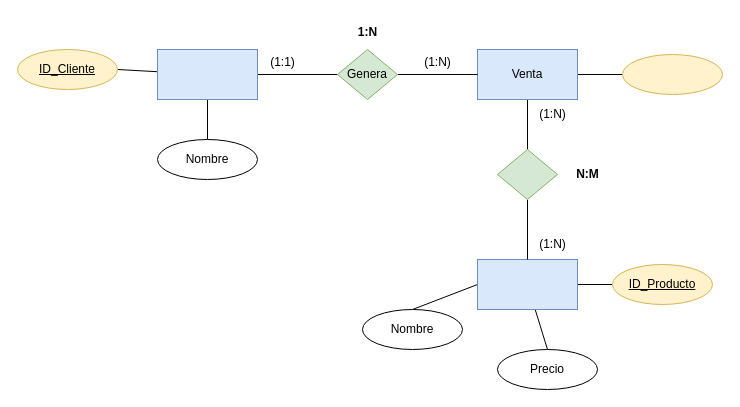
The diagram is 740 pixels wide and 407 high, and some of its shapes have lost their labels. The shapes that lost their labels are listed below. From the top down, each one's box as (x1, y1, x2, y2) in pixels, then its label:
(156, 48, 258, 100): Cliente
(622, 54, 722, 94): ID_Venta
(496, 148, 558, 200): Tiene
(476, 258, 578, 310): Producto
